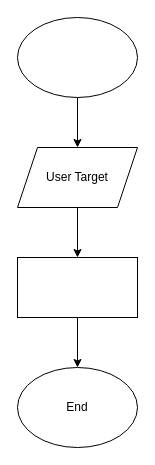
The diagram is 155 pixels wide and 465 high, and some of its shapes have lost their labels. Here are the shapes that lost their labels. From the top down, the centre of each, then its label:
At point (77, 57): "Start".
At point (77, 287): "Print User Avatar".
